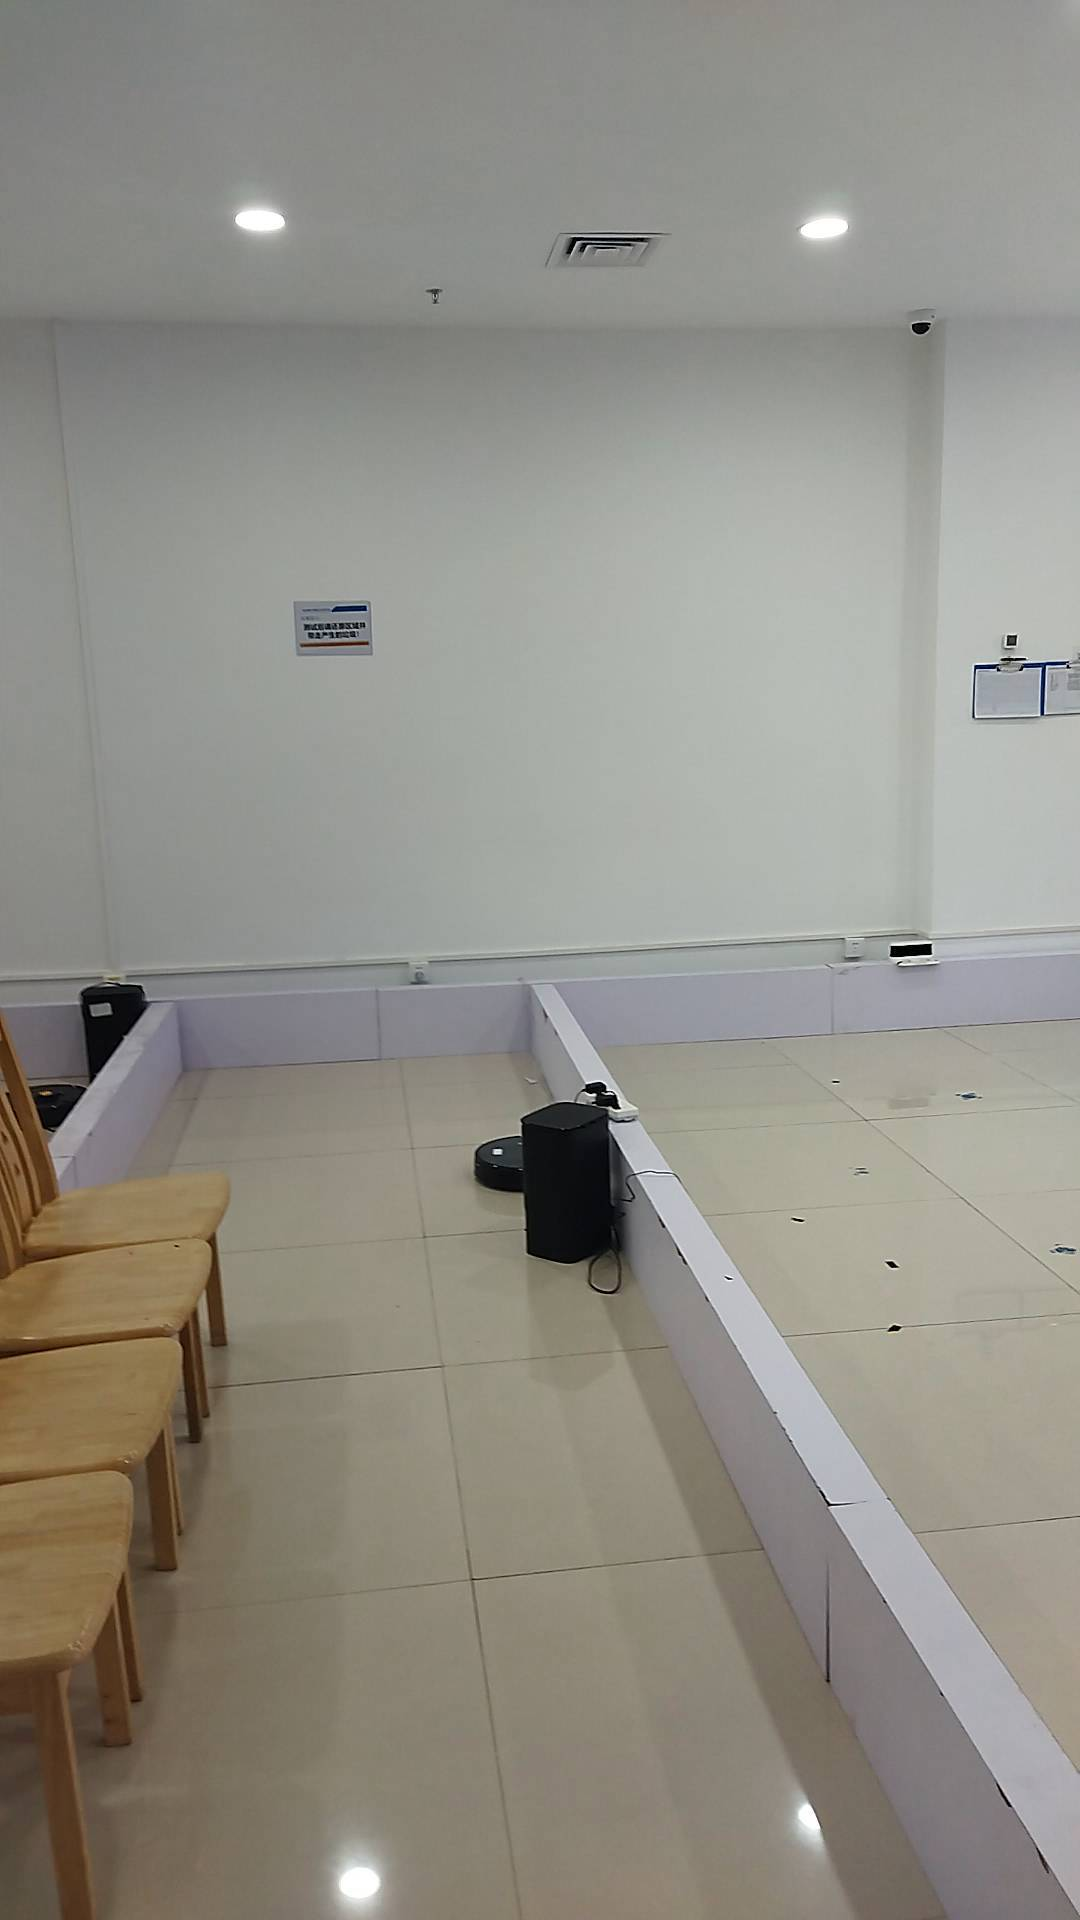dust collecting barrel: (525, 1102, 622, 1269), (80, 984, 148, 1087)
recharge seat: (887, 942, 943, 971)
